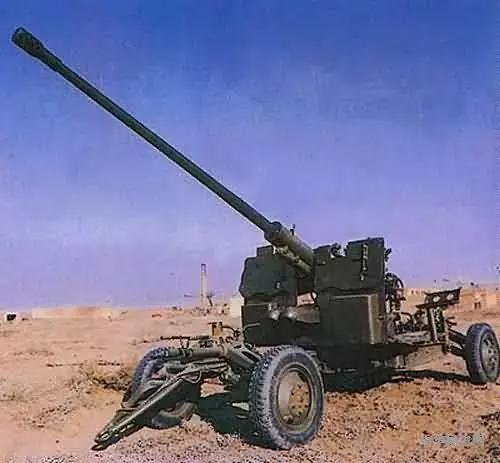MIL_SPG: (13, 28, 500, 450)
